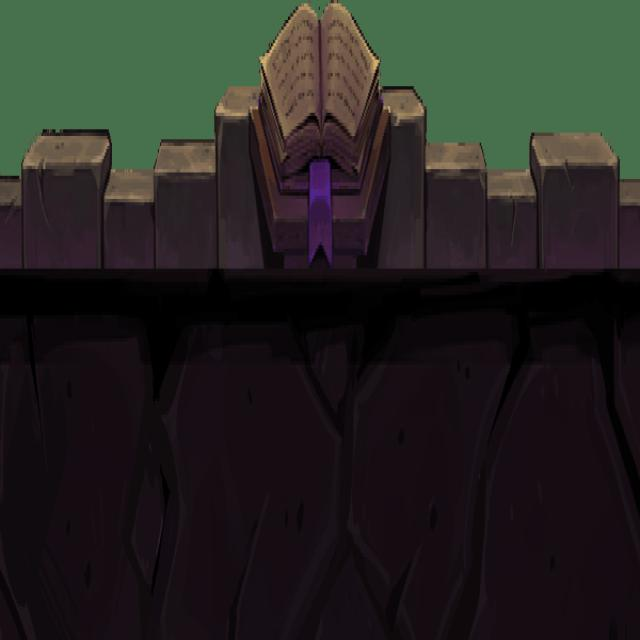Animation Frames: (20, 126, 111, 269), (529, 126, 620, 269), (214, 83, 264, 269), (378, 83, 426, 269), (424, 136, 486, 269), (154, 136, 216, 269), (102, 165, 154, 268), (486, 165, 536, 268)
Background Image: (1, 3, 638, 630)
Text Elements: (324, 17, 370, 122), (270, 24, 317, 120)
